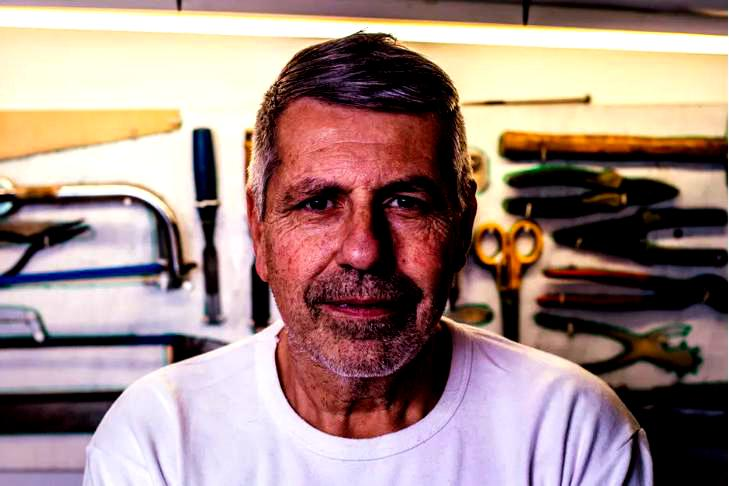face: (260, 102, 460, 374)
